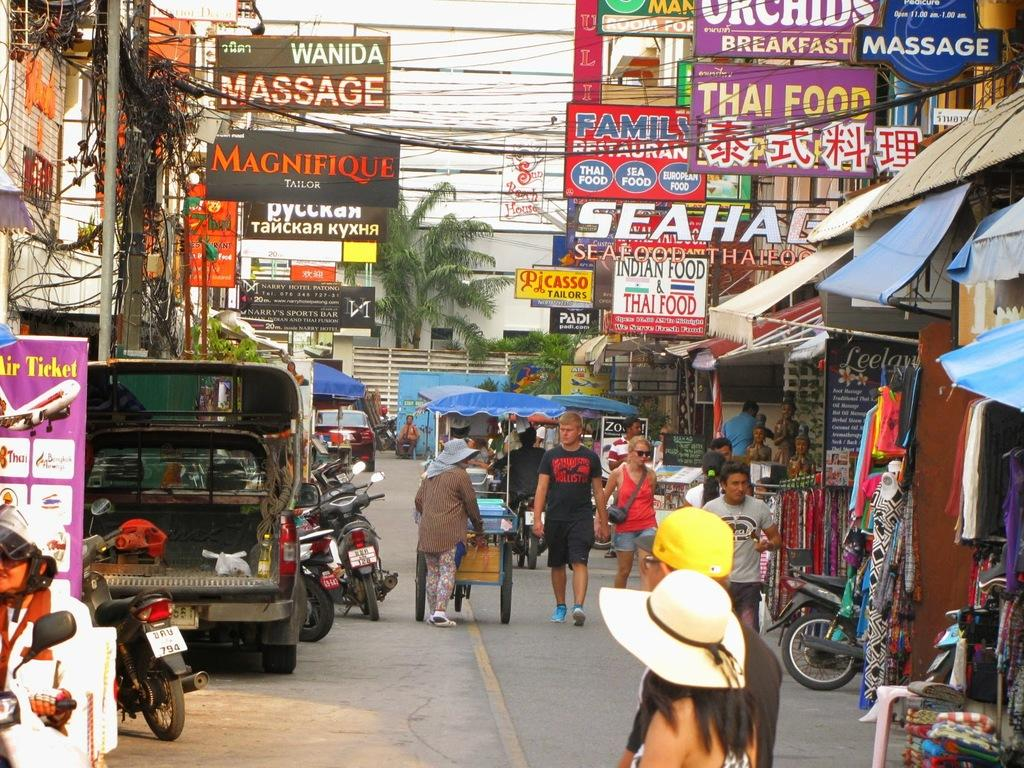Hat: (598, 566, 746, 690), (635, 500, 730, 578)
